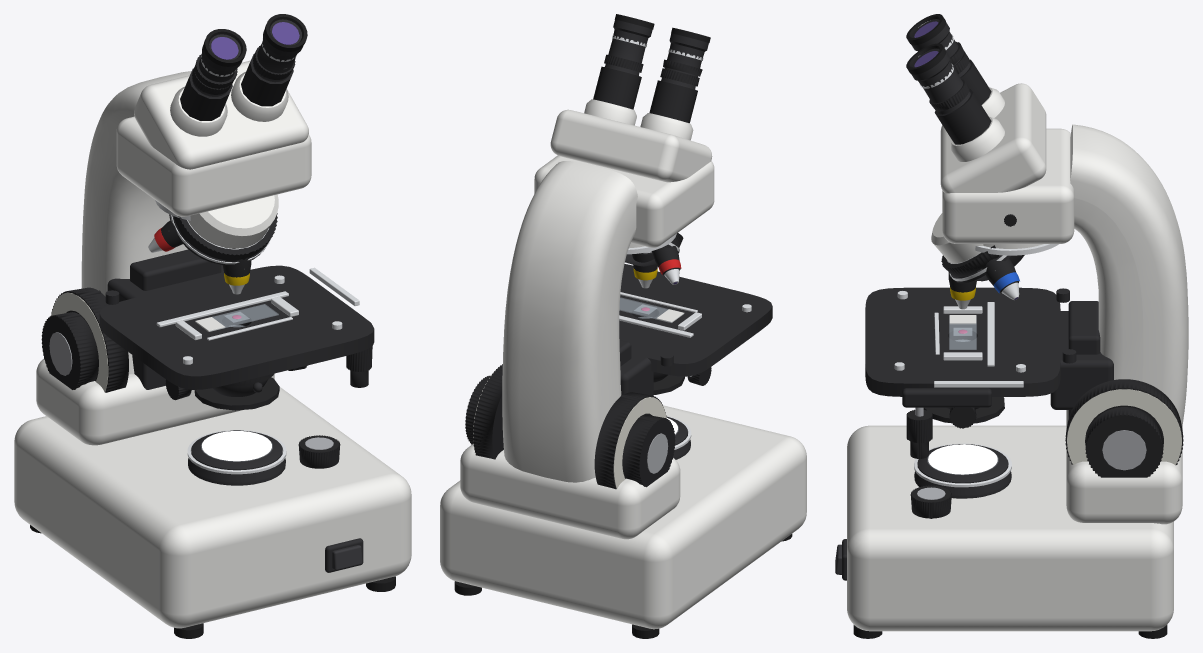
Rendered from microscope.glb.
The picture shows the model from 3 angles, left to right: view 1: azimuth 30°, elevation 25°; view 2: azimuth 150°, elevation 25°; view 3: azimuth 270°, elevation 25°; orthographic projection. The views are drawn at different scales.
Visible parts, largest first — view 1: BaseShell, StagePlate, Arm, HeadLower, BaseRear, HeadTop, EyepieceR, EyepieceL, Fine_2, NosepieceMount, Illuminator, SlideColumn (+13 smaller); view 2: BaseShell, Arm, BaseRear, StagePlate, HeadTop, HeadLower, EyepieceR, EyepieceL, Fine_2, Coarse, Coarse_2, FocusScale_2 (+8 smaller); view 3: BaseShell, Arm, StagePlate, HeadLower, HeadTop, BaseRear, EyepieceR, Fine, FocusScale, MechStage, StageCarrier, Illuminator (+15 smaller).
Boxes of the visible parts, x1=… form: BaseShell: x1=14, y1=387, x2=411, y2=628; StagePlate: x1=99, y1=265, x2=374, y2=389; Arm: x1=81, y1=71, x2=191, y2=374; HeadLower: x1=116, y1=116, x2=311, y2=216; BaseRear: x1=36, y1=359, x2=274, y2=445; HeadTop: x1=134, y1=60, x2=308, y2=169; EyepieceR: x1=231, y1=14, x2=307, y2=121; EyepieceL: x1=170, y1=29, x2=246, y2=136; Fine_2: x1=41, y1=312, x2=98, y2=389; NosepieceMount: x1=187, y1=194, x2=278, y2=249; Illuminator: x1=187, y1=430, x2=286, y2=485; SlideColumn: x1=130, y1=249, x2=221, y2=389; BaseShell: x1=440, y1=405, x2=806, y2=629; Arm: x1=502, y1=161, x2=637, y2=482; BaseRear: x1=460, y1=444, x2=680, y2=539; StagePlate: x1=619, y1=264, x2=772, y2=376; HeadTop: x1=550, y1=109, x2=712, y2=182; HeadLower: x1=534, y1=155, x2=714, y2=247; EyepieceR: x1=584, y1=14, x2=654, y2=125; EyepieceL: x1=640, y1=27, x2=710, y2=140; Fine_2: x1=622, y1=415, x2=675, y2=487; Coarse: x1=473, y1=364, x2=503, y2=459; Coarse_2: x1=594, y1=392, x2=666, y2=489; FocusScale_2: x1=613, y1=397, x2=666, y2=488; BaseShell: x1=847, y1=425, x2=1173, y2=631; Arm: x1=1070, y1=124, x2=1188, y2=427; StagePlate: x1=865, y1=287, x2=1060, y2=396; HeadLower: x1=942, y1=128, x2=1074, y2=243; HeadTop: x1=940, y1=83, x2=1046, y2=193; BaseRear: x1=1066, y1=410, x2=1182, y2=524; EyepieceR: x1=906, y1=43, x2=1004, y2=161; Fine: x1=1085, y1=407, x2=1163, y2=477; FocusScale: x1=1067, y1=389, x2=1181, y2=465; MechStage: x1=902, y1=388, x2=991, y2=459; StageCarrier: x1=1050, y1=311, x2=1113, y2=409; Illuminator: x1=914, y1=443, x2=1011, y2=498.
Bounding box in the file's own units: 0.27 × 0.579 × 0.3347.
20 materials, 5 textured.
